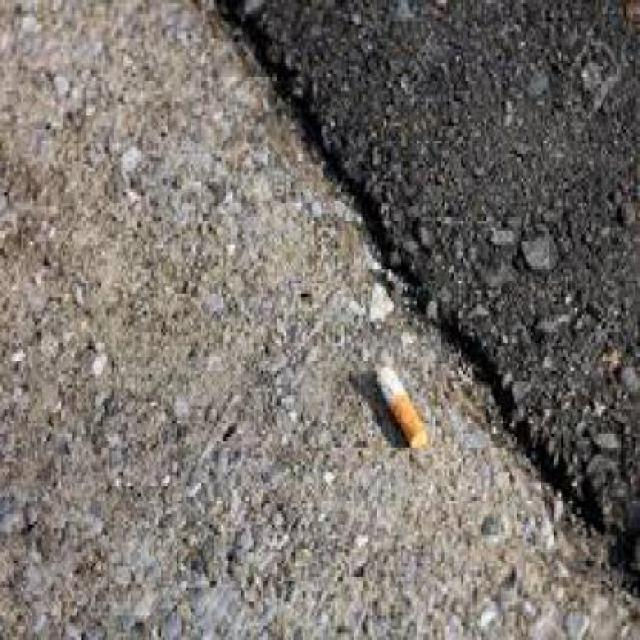cigarette: (384, 349, 433, 497)
